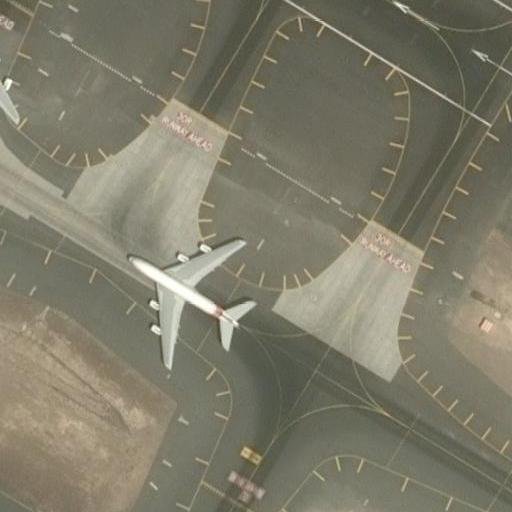Aircraft: (120, 234, 265, 361), (0, 0, 27, 134)
